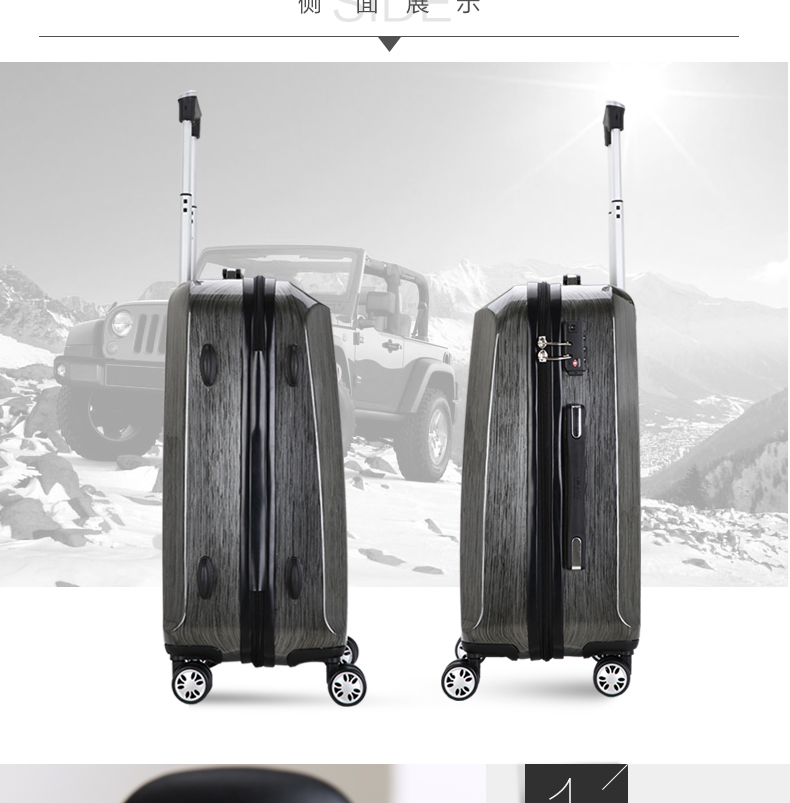luggage: (445, 100, 642, 697)
